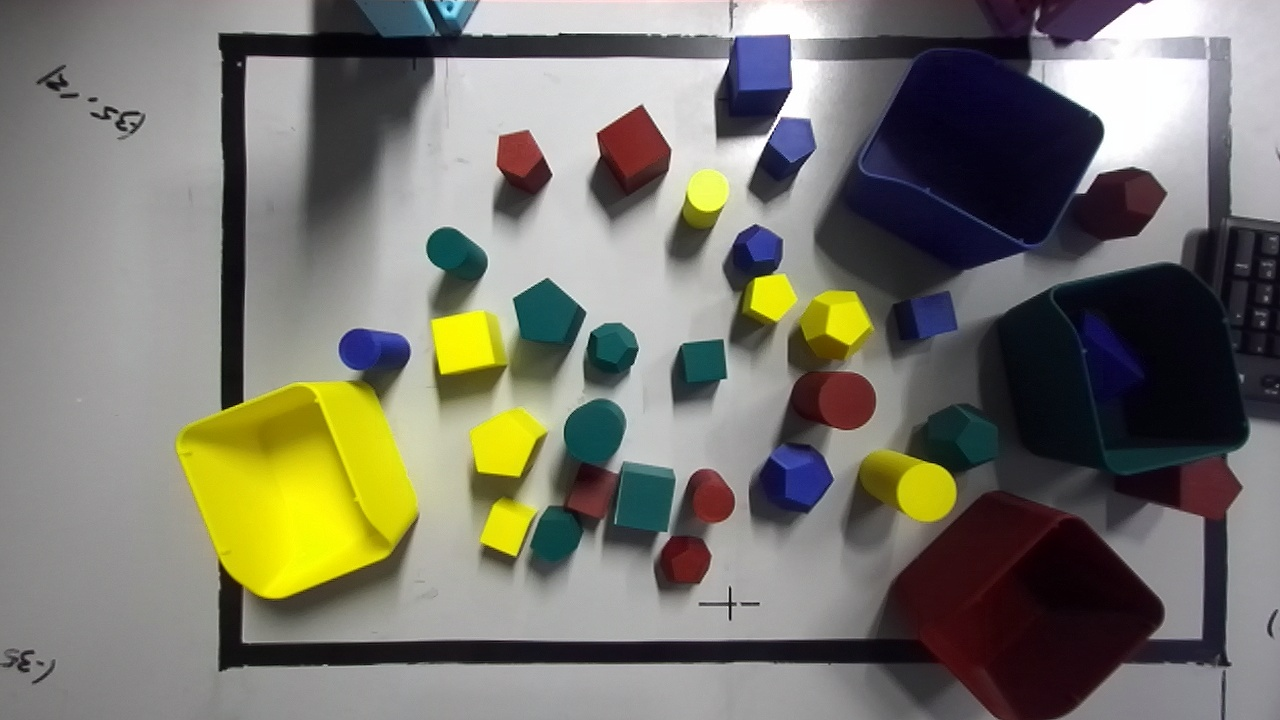bin: (893, 491, 1163, 719), (846, 49, 1103, 267), (998, 262, 1248, 475), (176, 382, 416, 598)
cube: (597, 105, 670, 194), (726, 35, 791, 115), (430, 311, 507, 375), (613, 461, 675, 531), (480, 497, 536, 556), (892, 291, 957, 340), (565, 463, 618, 520), (678, 339, 726, 383)
cylinder: (858, 450, 956, 522), (789, 371, 875, 429), (564, 398, 626, 463), (426, 227, 487, 279), (338, 328, 410, 370), (681, 169, 728, 228), (687, 469, 734, 522)
dodecahedron: (1071, 167, 1166, 239), (799, 291, 872, 359), (759, 443, 832, 511), (924, 404, 998, 470), (731, 224, 782, 274), (587, 323, 638, 372), (659, 536, 711, 583)
hexagonal: (1114, 455, 1241, 519), (470, 408, 546, 476), (514, 278, 585, 344), (759, 117, 815, 180), (496, 130, 551, 193), (531, 506, 583, 562), (741, 274, 796, 323)
